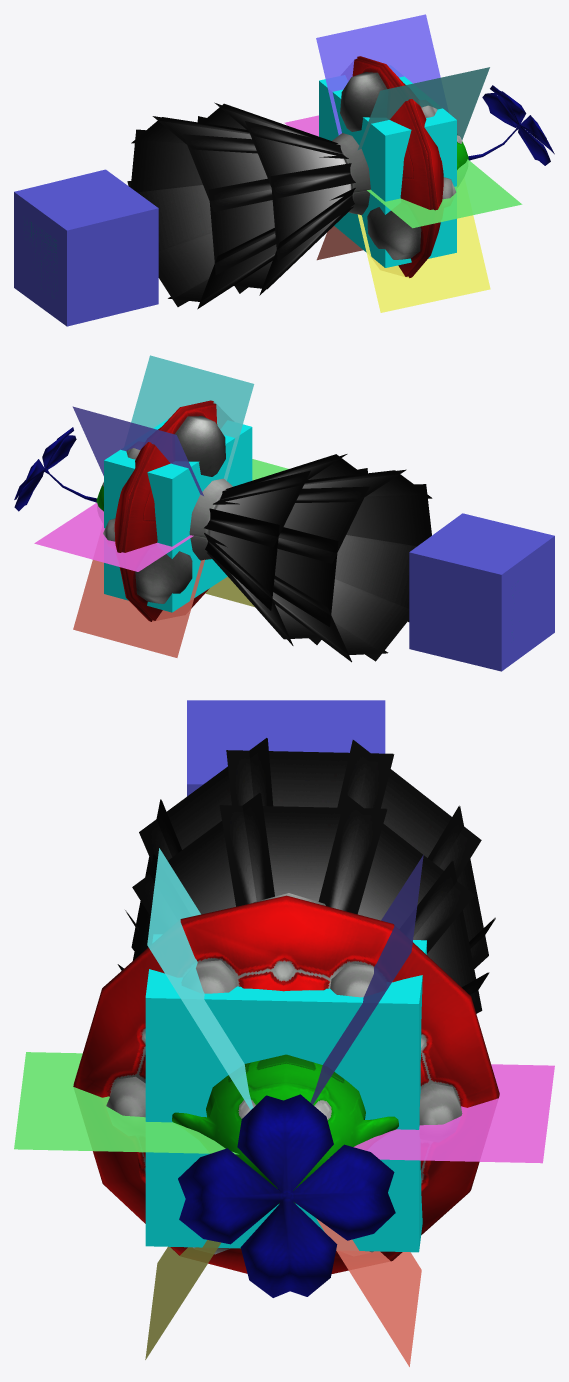
The picture shows the model from 3 angles, top to bottom: view 1: azimuth 30°, elevation 25°; view 2: azimuth 150°, elevation 25°; view 3: azimuth 270°, elevation 25°; orthographic projection. The views are drawn at different scales.
Parts seen in each view (by area): view 1: object0211_Plane172, object0258_Box, object0005_F1274, object0240_Plane171, object0246_Box, "object0126_Editable Poly", "object0185_Editable Poly", "object0157_Editable Poly", "object0171_Editable Poly", "object0199_Editable Poly", "object0143_Editable Poly"; view 2: object0258_Box, object0226_Plane173, object0005_F1274, object0243_Plane174, object0246_Box, object0211_Plane172, "object0157_Editable Poly", "object0199_Editable Poly", "object0143_Editable Poly", "object0126_Editable Poly", object0240_Plane171, "object0185_Editable Poly" (+1 smaller); view 3: object0005_F1274, object0246_Box, object0240_Plane171, object0211_Plane172, object0258_Box, object0243_Plane174, "object0171_Editable Poly", "object0143_Editable Poly", object0226_Plane173, "object0157_Editable Poly", "object0199_Editable Poly", "object0126_Editable Poly" (+5 smaller).
Part boxes in pixels (x1,y1,x2,y2): object0211_Plane172: (127, 116, 354, 308); object0258_Box: (14, 169, 158, 326); object0005_F1274: (332, 56, 554, 277); object0240_Plane171: (198, 103, 355, 295); object0246_Box: (319, 76, 456, 267); "object0126_Editable Poly": (316, 14, 440, 135); "object0185_Editable Poly": (357, 214, 490, 312); "object0157_Editable Poly": (357, 67, 489, 150); "object0171_Editable Poly": (367, 159, 522, 228); "object0199_Editable Poly": (316, 226, 363, 260); "object0143_Editable Poly": (284, 115, 318, 136); object0258_Box: (409, 513, 554, 671); object0226_Plane173: (204, 470, 431, 662); object0005_F1274: (14, 400, 232, 621); object0243_Plane174: (204, 454, 367, 645); object0246_Box: (104, 419, 252, 612); object0211_Plane172: (205, 469, 432, 661); "object0157_Editable Poly": (131, 355, 254, 480); "object0199_Editable Poly": (73, 559, 204, 657); "object0143_Editable Poly": (34, 503, 193, 571); "object0126_Editable Poly": (72, 406, 203, 495); object0240_Plane171: (204, 454, 367, 645); "object0185_Editable Poly": (205, 576, 254, 606); object0005_F1274: (73, 893, 499, 1297); object0246_Box: (145, 940, 426, 1252); object0240_Plane171: (117, 793, 488, 987); object0211_Plane172: (125, 738, 495, 950); object0258_Box: (187, 700, 385, 796); object0243_Plane174: (118, 793, 489, 1013); "object0171_Editable Poly": (14, 1052, 238, 1154); "object0143_Editable Poly": (353, 1064, 554, 1163); object0226_Plane173: (126, 738, 495, 968); "object0157_Editable Poly": (147, 848, 253, 1109); "object0199_Editable Poly": (316, 1218, 421, 1366); "object0126_Editable Poly": (310, 855, 423, 1104).
Bounding box in the file's own units: 1.15 × 0.4867 × 0.5727.
